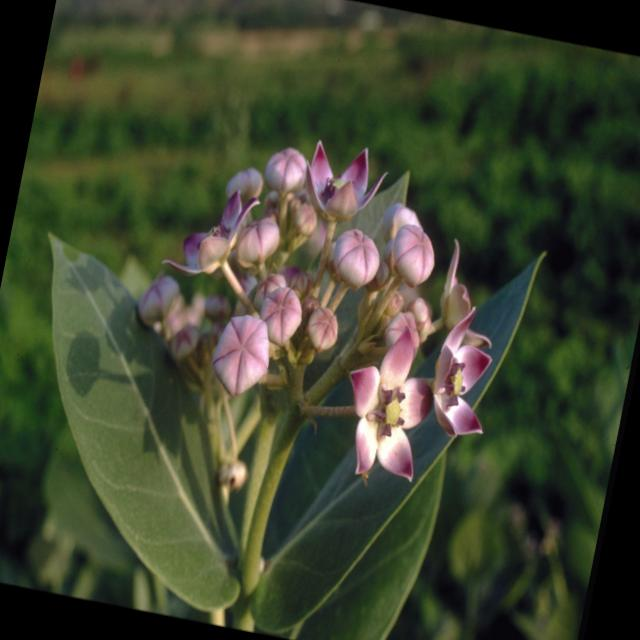Poisonous-Calatropis: (89, 102, 539, 511), (0, 229, 307, 630), (253, 296, 474, 640)
